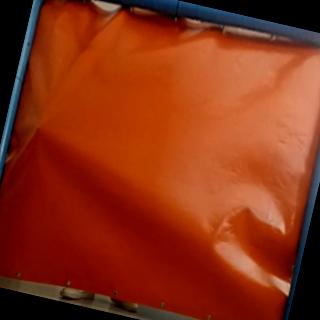Hit-hRxx: (30, 116, 48, 135)
